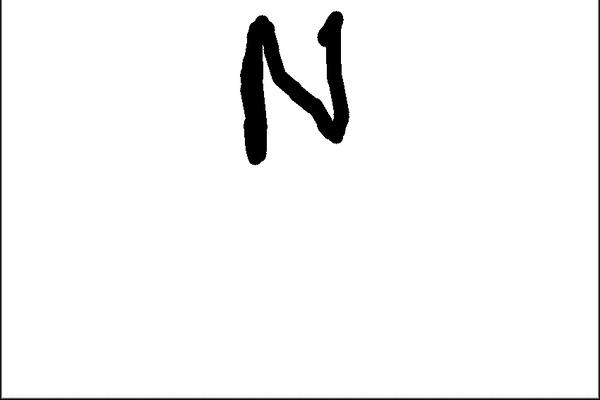N: (234, 6, 357, 169)
